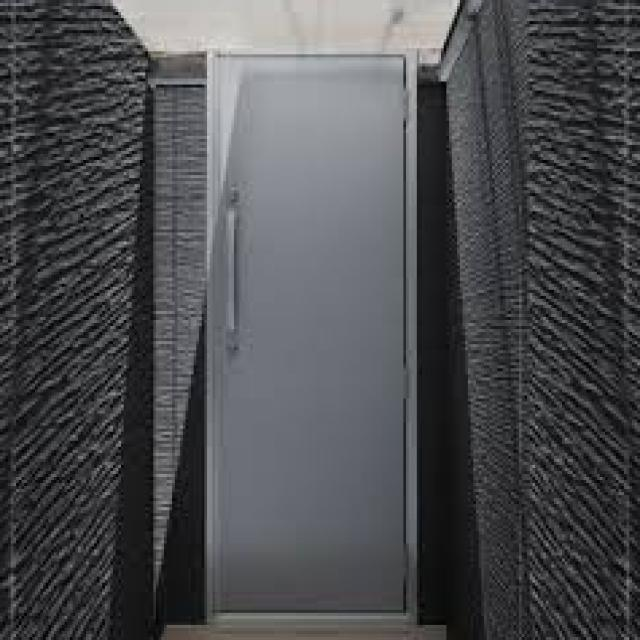door: (204, 51, 417, 622)
